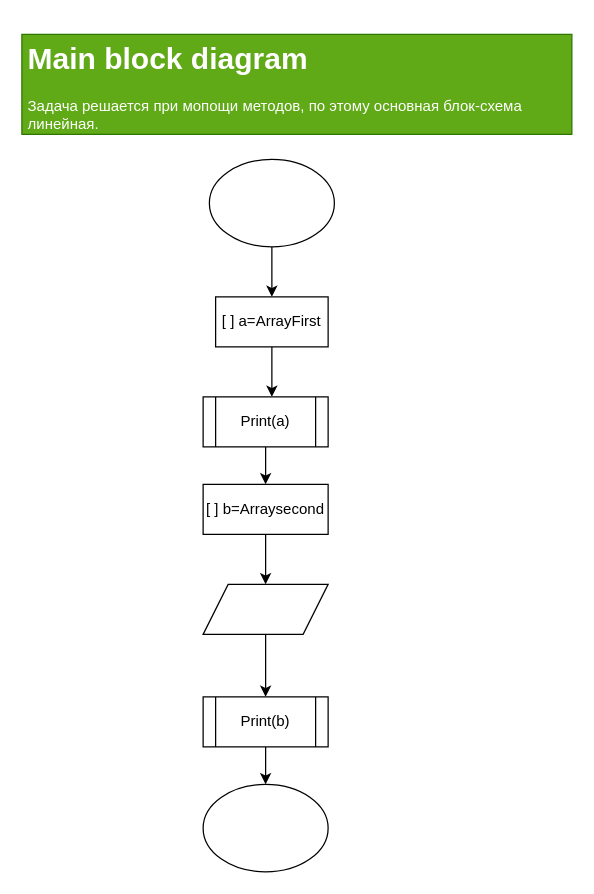
The diagram is 594 pixels wide and 894 high, and some of its shapes have lost their labels. The shapes that lost their labels are listed below. From the top down, each one's centre as x and y in pixels, then its label:
At point (271, 202): "Start".
At point (265, 608): "null".
At point (265, 827): "Finish".
